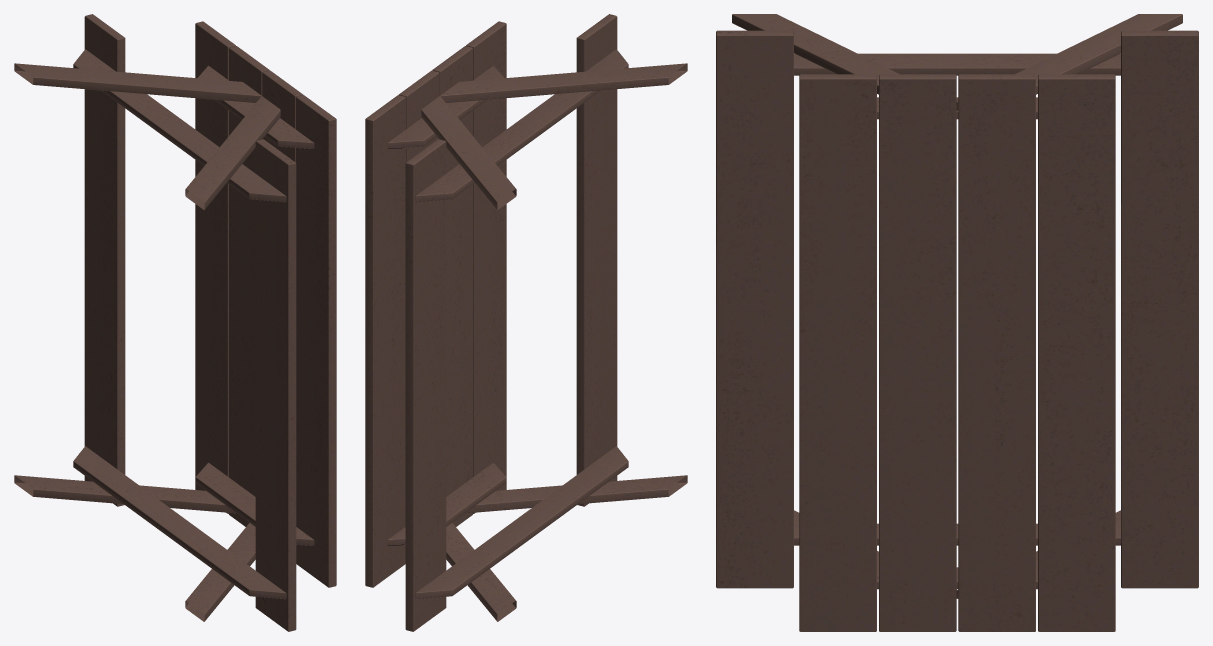
The model's file is cP_PicnicTable.dae.
3 views of the same model, side by side, from view 1: azimuth 30°, elevation 25°; view 2: azimuth 150°, elevation 25°; view 3: azimuth 270°, elevation 25° (orthographic). The views are drawn at different scales.
Parts seen in each view (by area): view 1: cP_PicnicTable.001; view 2: cP_PicnicTable.001; view 3: cP_PicnicTable.001.
Part boxes in pixels (x1=…): cP_PicnicTable.001: x1=14, y1=14, x2=336, y2=631; cP_PicnicTable.001: x1=365, y1=14, x2=687, y2=631; cP_PicnicTable.001: x1=716, y1=14, x2=1198, y2=631.
Bounding box in the file's own units: 0.8299 × 1.82 × 2.3.
